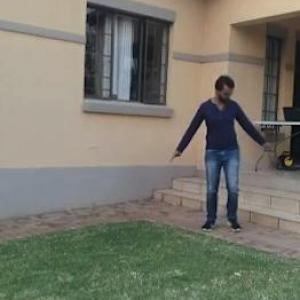land: (170, 74, 269, 231)
